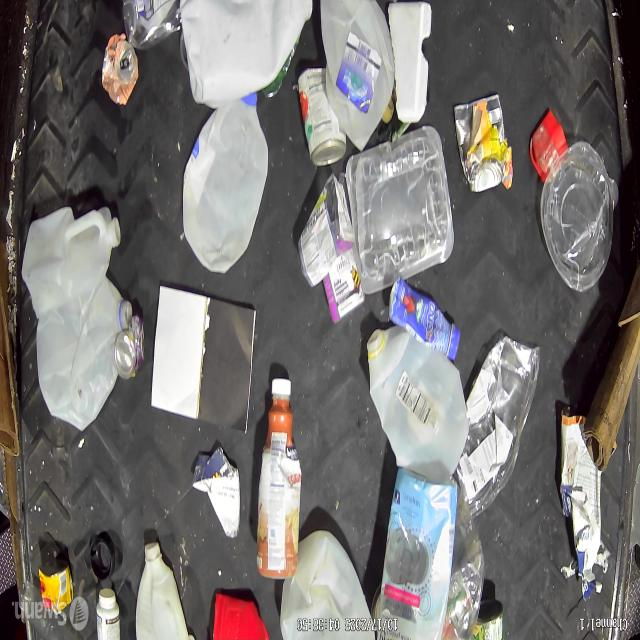can: (453, 94, 510, 194), (297, 66, 346, 168), (101, 30, 139, 107), (114, 316, 146, 381), (466, 598, 505, 640)
milk_jug: (362, 324, 470, 479), (180, 93, 268, 272), (180, 0, 311, 108), (36, 274, 124, 429), (23, 205, 120, 320), (320, 2, 394, 151), (281, 527, 374, 640), (132, 537, 193, 640)
